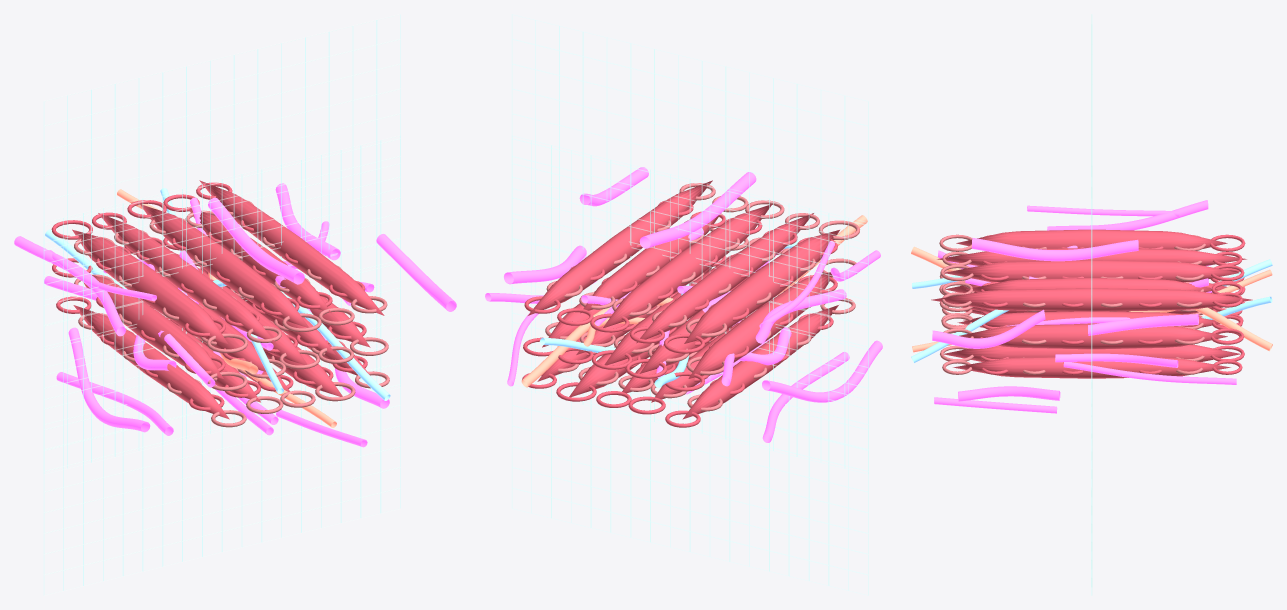
Rendered from heart-tissue.glb.
The picture shows the model from 3 angles, left to right: view 1: azimuth 30°, elevation 25°; view 2: azimuth 150°, elevation 25°; view 3: azimuth 270°, elevation 25°; orthographic projection. The views are drawn at different scales.
Visible parts, largest first — view 1: ECM_Bot, ECM_Top, Fibre_12, Fibre_14, Fibre_10, Fibre_11, Fibre_0, Fibre_5, Fibre_13, CapVen1, Amy_11, Amy_8 (+17 smaller); view 2: ECM_Bot, ECM_Top, Fibre_12, Fibre_10, Fibre_14, Fibre_11, Fibre_5, Fibre_0, Fibre_13, Amy_11, Amy_8, CapArt1 (+14 smaller); view 3: Fibre_14, Fibre_12, Fibre_9, Fibre_10, Fibre_4, Fibre_3, Fibre_13, Fibre_11, Amy_11, Fibre_8, Amy_3, Amy_24 (+13 smaller).
Part boxes in pixels (<box>): ECM_Bot: <box>44,136,400,595</box>; ECM_Top: <box>44,14,400,474</box>; Fibre_12: <box>140,204,308,327</box>; Fibre_14: <box>199,180,384,315</box>; Fibre_10: <box>72,229,227,343</box>; Fibre_11: <box>98,213,276,343</box>; Fibre_0: <box>73,305,229,419</box>; Fibre_5: <box>83,275,223,378</box>; Fibre_13: <box>187,207,331,312</box>; CapVen1: <box>45,229,390,400</box>; Amy_11: <box>208,197,304,284</box>; Amy_8: <box>68,327,150,432</box>; ECM_Bot: <box>512,135,868,595</box>; ECM_Top: <box>512,14,868,473</box>; Fibre_12: <box>603,204,772,327</box>; Fibre_10: <box>684,230,839,343</box>; Fibre_14: <box>528,180,712,315</box>; Fibre_11: <box>636,213,813,343</box>; Fibre_5: <box>688,272,832,378</box>; Fibre_0: <box>682,305,838,419</box>; Fibre_13: <box>580,216,718,313</box>; Amy_11: <box>639,172,756,248</box>; Amy_8: <box>762,340,882,402</box>; CapArt1: <box>521,215,867,387</box>; Fibre_14: <box>931,288,1252,311</box>; Fibre_12: <box>944,260,1239,282</box>; Fibre_9: <box>959,323,1227,349</box>; Fibre_10: <box>956,229,1227,249</box>; Fibre_4: <box>953,357,1230,378</box>; Fibre_3: <box>943,344,1240,361</box>; Fibre_13: <box>966,278,1217,292</box>; Fibre_11: <box>937,248,1246,265</box>; Amy_11: <box>971,237,1138,261</box>; Fibre_8: <box>957,311,1220,327</box>; Amy_3: <box>1088,314,1198,335</box>; Amy_24: <box>932,309,1045,348</box>.
Bounding box in the file's own units: 4 × 5.3 × 4.04.
